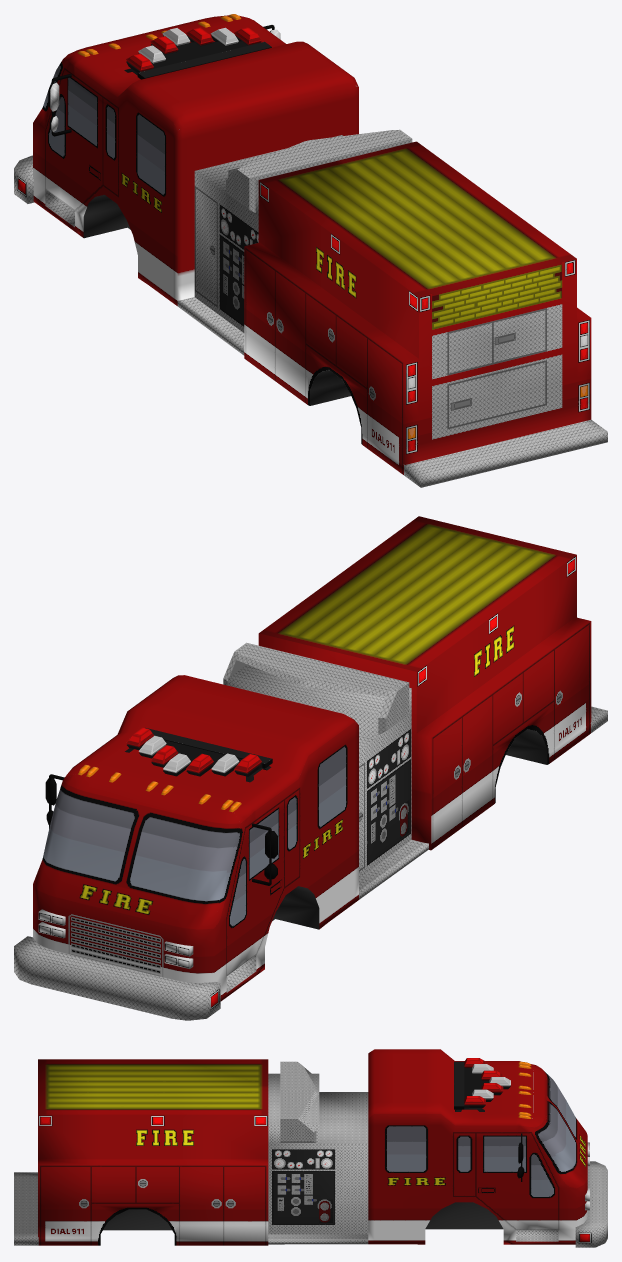
File: 93lefrance.fbx
3 views of the same model, one above another, from view 1: azimuth 30°, elevation 25°; view 2: azimuth 150°, elevation 25°; view 3: azimuth 270°, elevation 25° (orthographic). The views are drawn at different scales.
Parts seen in each view (by area): view 1: 93lefrance; view 2: 93lefrance; view 3: 93lefrance.
Part boxes in pixels (x1=…): 93lefrance: x1=14, y1=14, x2=607, y2=487; 93lefrance: x1=14, y1=516, x2=607, y2=1020; 93lefrance: x1=14, y1=1049, x2=607, y2=1247.
Bounding box in the file's own units: 3.12 × 2.44 × 9.69.
